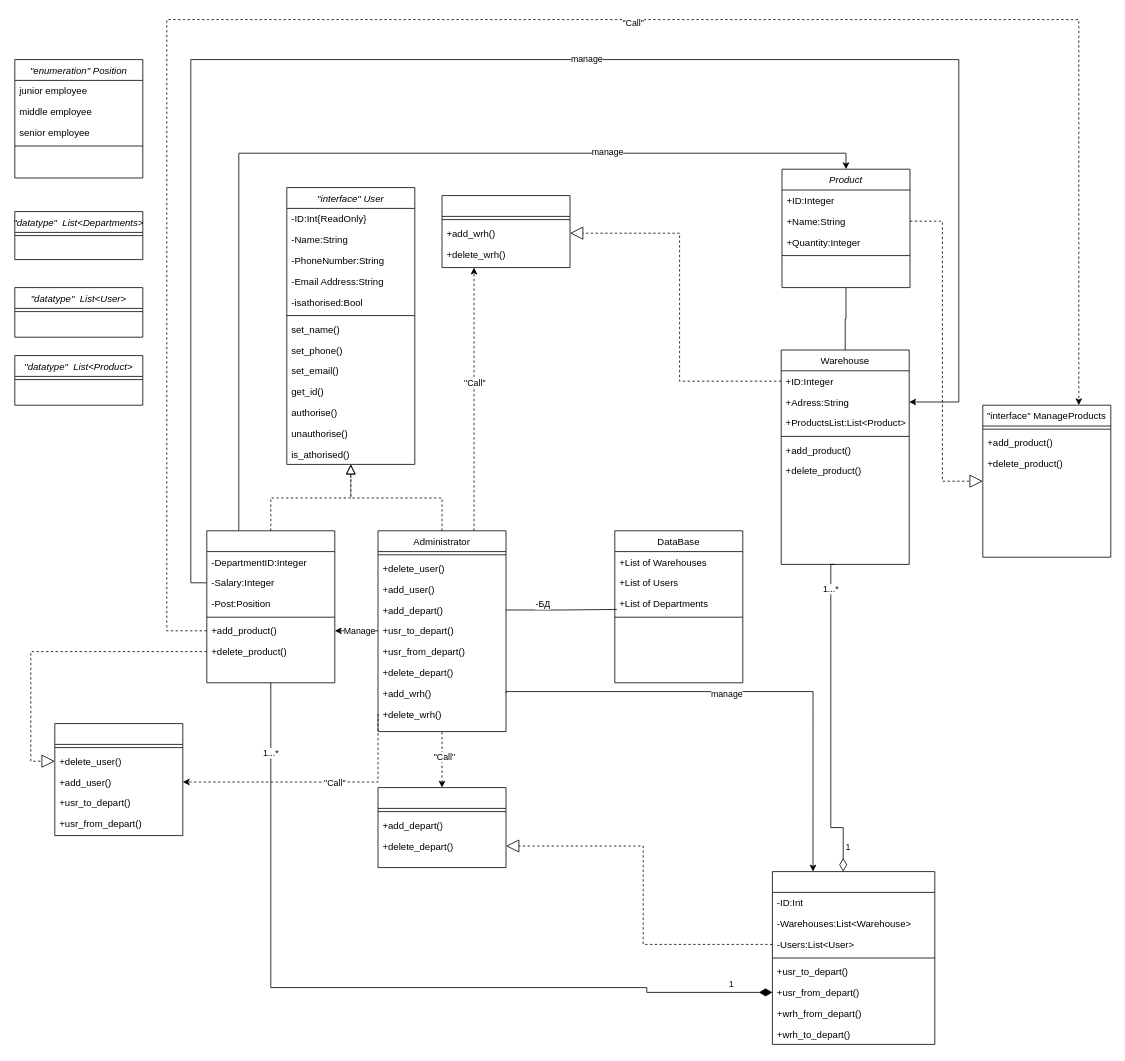
Image size: 1125x1061. Some labels were removed from this diagram. Here are the shapes that lost their labels. From the top down, the box of each, then its label:
(441, 195, 570, 268): "interface" ManageWarehouse
(206, 530, 335, 683): Employee
(54, 723, 183, 836): "interface" ManageUser
(377, 787, 506, 868): "interface" ManageDepart
(772, 871, 935, 1044): Department
